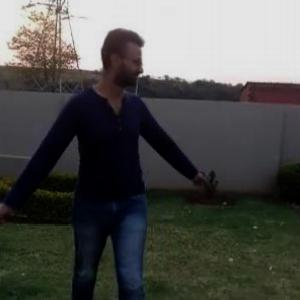land: (0, 16, 242, 299)
